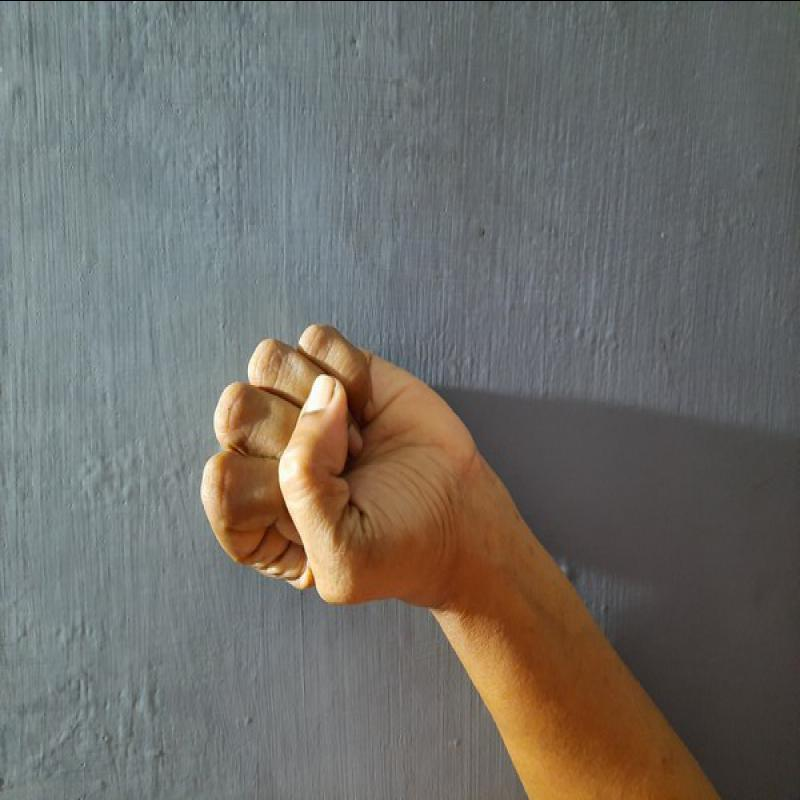Mushti: (183, 299, 493, 627)
